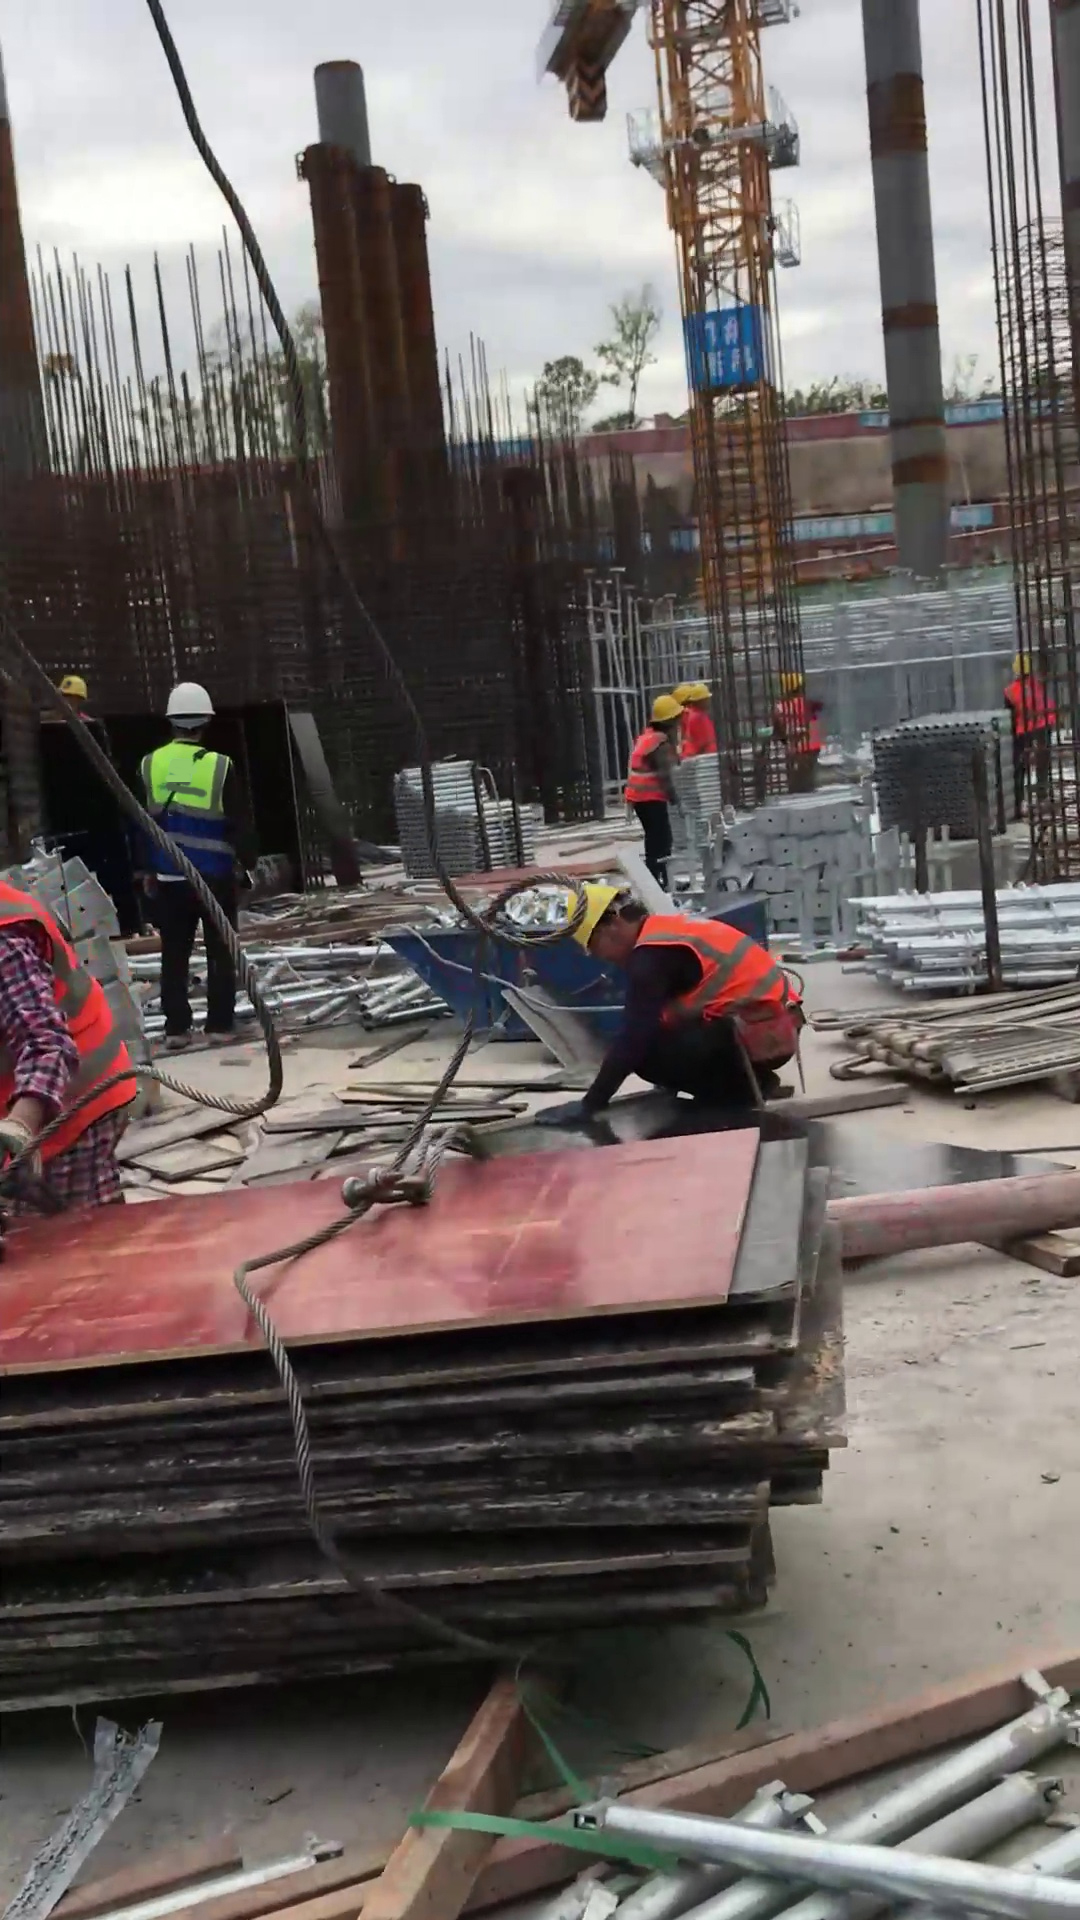helmet: (558, 877, 628, 966), (152, 673, 223, 732), (671, 669, 718, 715), (645, 690, 689, 734), (49, 674, 103, 708)
person: (555, 871, 823, 1155), (1, 871, 155, 1237), (126, 671, 260, 1063), (610, 681, 695, 882), (32, 671, 112, 737), (673, 663, 721, 769)
vest: (3, 878, 140, 1171), (628, 904, 804, 1039), (135, 742, 249, 894), (617, 724, 676, 815), (680, 710, 719, 763)
